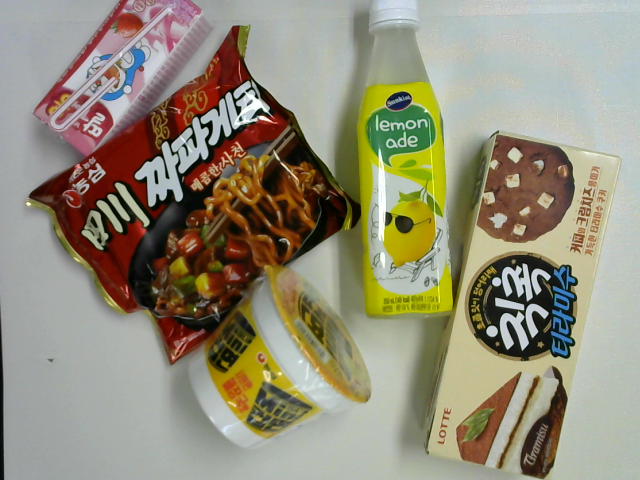Chicchok_Tiramisu: (421, 128, 625, 480)
Hejangmini: (184, 260, 378, 455)
Sichuan_Chapaghetti: (21, 23, 366, 371)
Strawberry_E_Mong: (30, 1, 222, 164)
Sunkist_Lemonaid_Pet: (346, 1, 459, 323)
